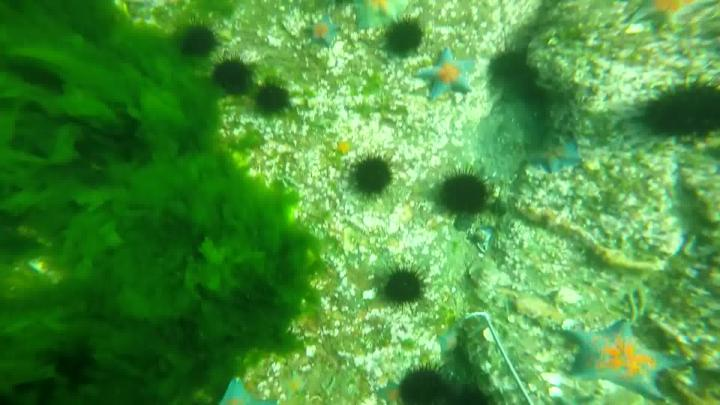echinus: (636, 75, 720, 141), (441, 169, 495, 216), (346, 150, 394, 201), (383, 259, 428, 312), (401, 364, 451, 405), (385, 17, 427, 56), (490, 46, 533, 81), (255, 80, 290, 115), (453, 384, 501, 405), (235, 58, 251, 101)
starfish: (566, 321, 684, 405), (417, 48, 480, 102), (630, 1, 710, 26), (216, 377, 276, 405), (532, 140, 582, 171), (303, 15, 337, 50), (440, 323, 459, 350)
